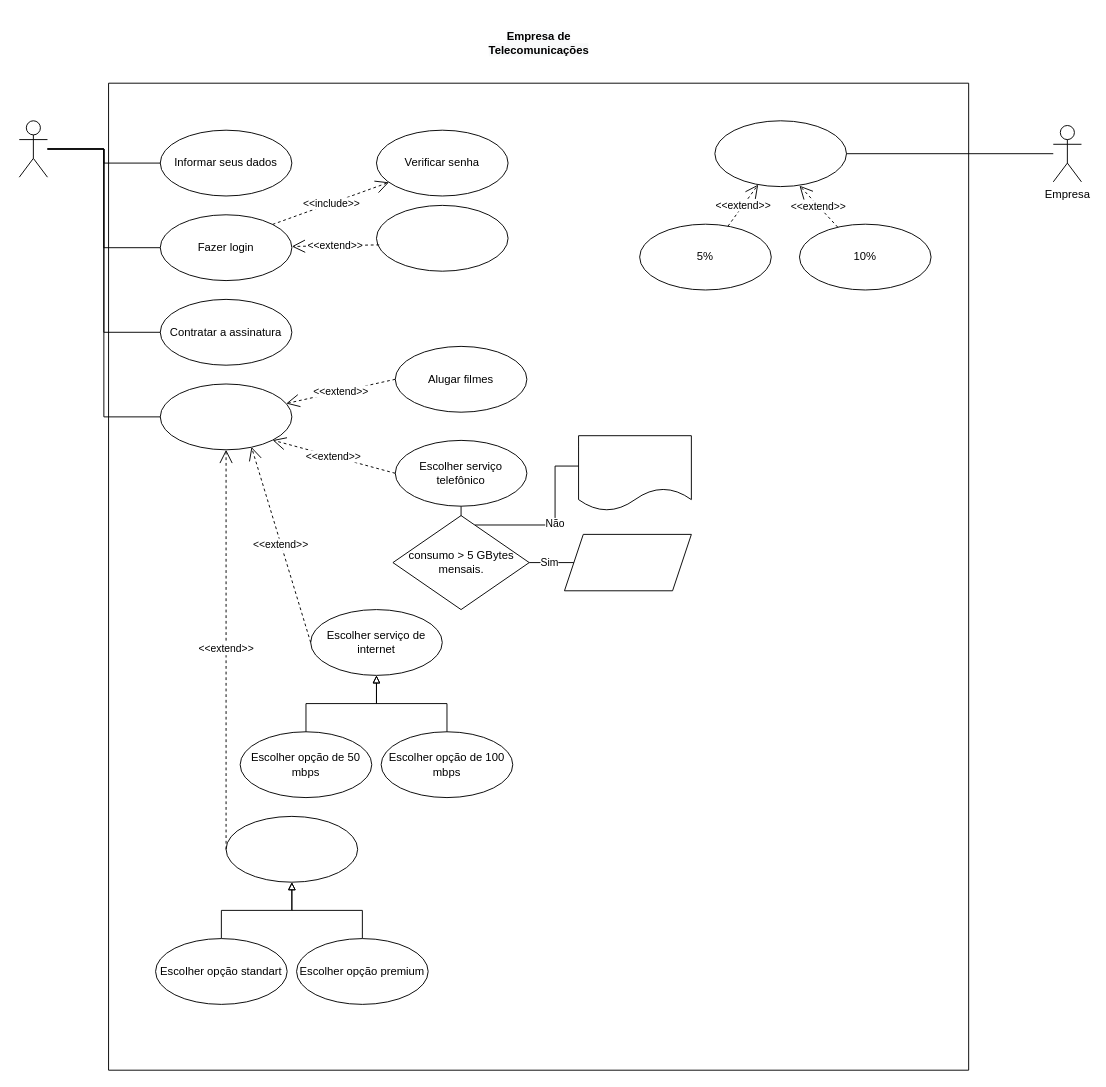
The diagram is 1106 pixels wide and 1087 high, and some of its shapes have lost their labels. Each missing label, with the box of its shape:
Cliente: (18, 120, 47, 177)
cobrar R$ 0,01 por MByte excedente: (564, 533, 691, 591)
Escolher os serviços: (159, 383, 292, 450)
Escolher serviços de canais: (225, 815, 358, 882)
Exibir erro de login: (376, 204, 508, 271)
Manter o preço: (578, 435, 691, 511)
Oferecer desconto: (714, 120, 846, 187)
